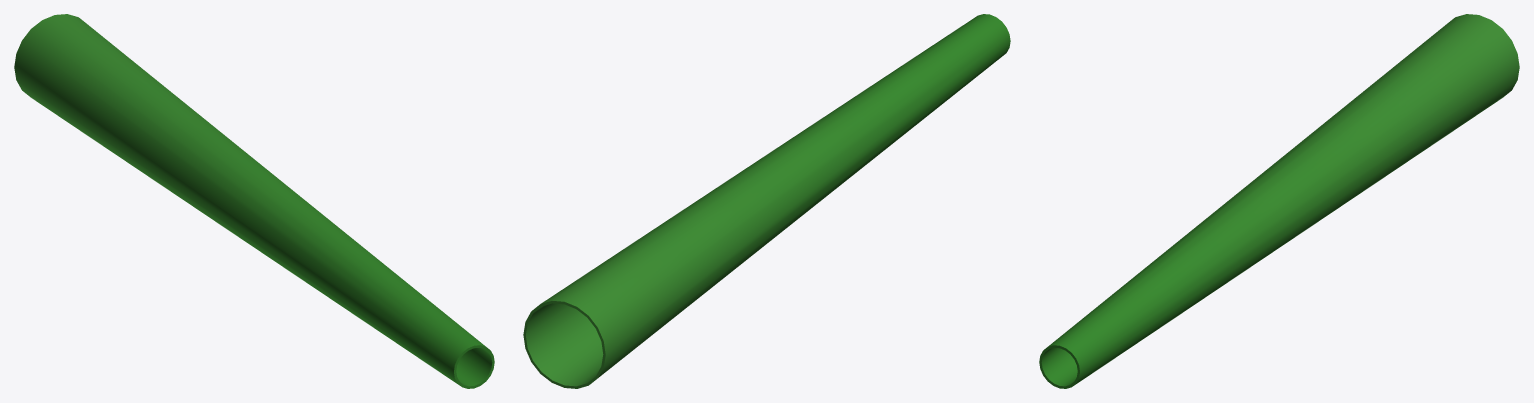
The model's file is chives1_sliced_1.fbx.
The picture shows the model from 3 angles, left to right: view 1: azimuth 30°, elevation 25°; view 2: azimuth 150°, elevation 25°; view 3: azimuth 330°, elevation 25°; orthographic projection.
Visible parts, largest first — view 1: Chives_1_sliced.001; view 2: Chives_1_sliced.001; view 3: Chives_1_sliced.001.
Part boxes in pixels (x1,y1,x2,y2): Chives_1_sliced.001: [14, 14, 494, 388]; Chives_1_sliced.001: [523, 14, 1010, 388]; Chives_1_sliced.001: [1039, 14, 1519, 388].
Size of the model in its own units: 33.4 by 33.4 by 299.
